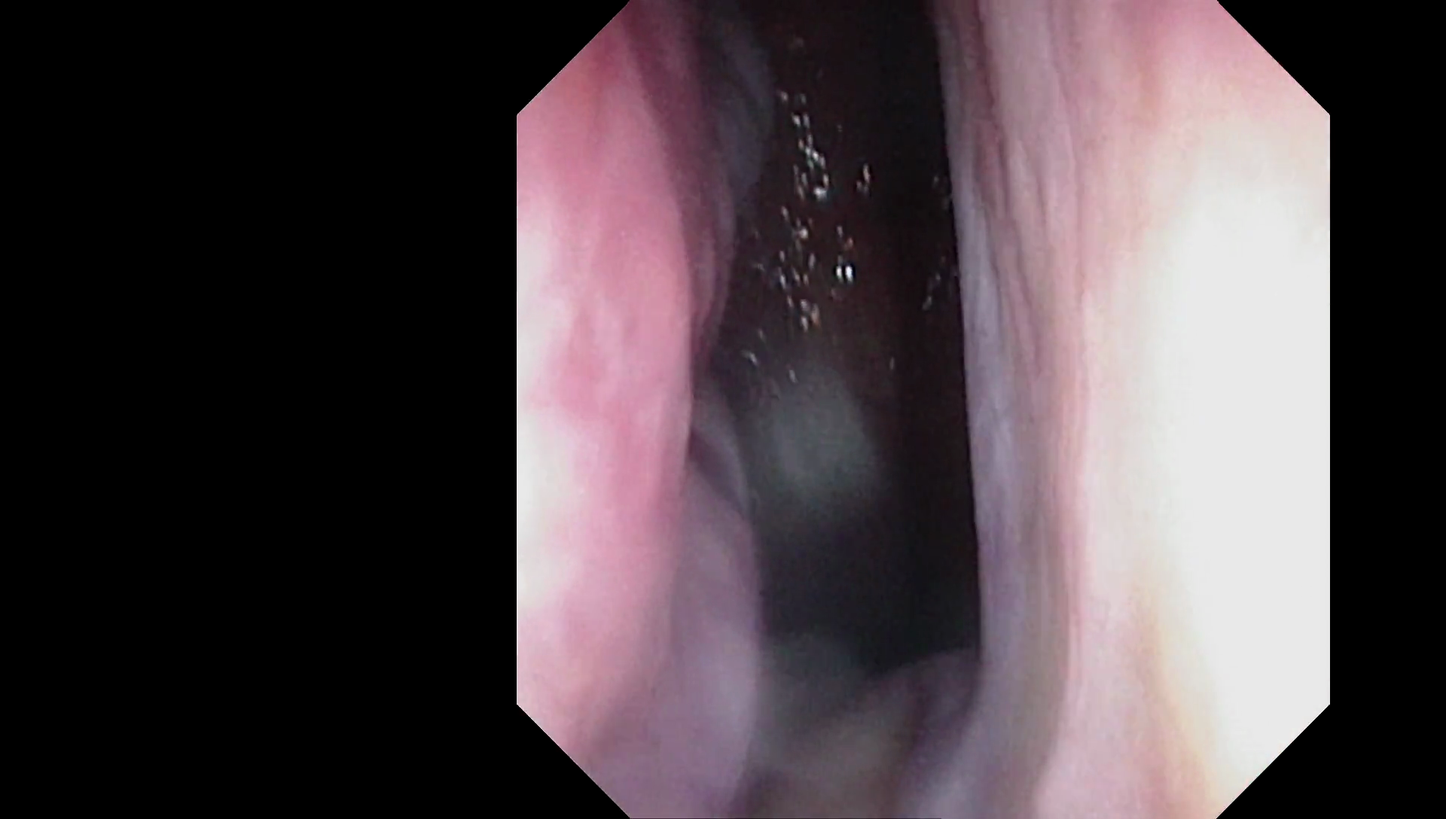close_wall: (970, 110, 1320, 700), (518, 145, 676, 680)
next: (745, 313, 996, 692)
